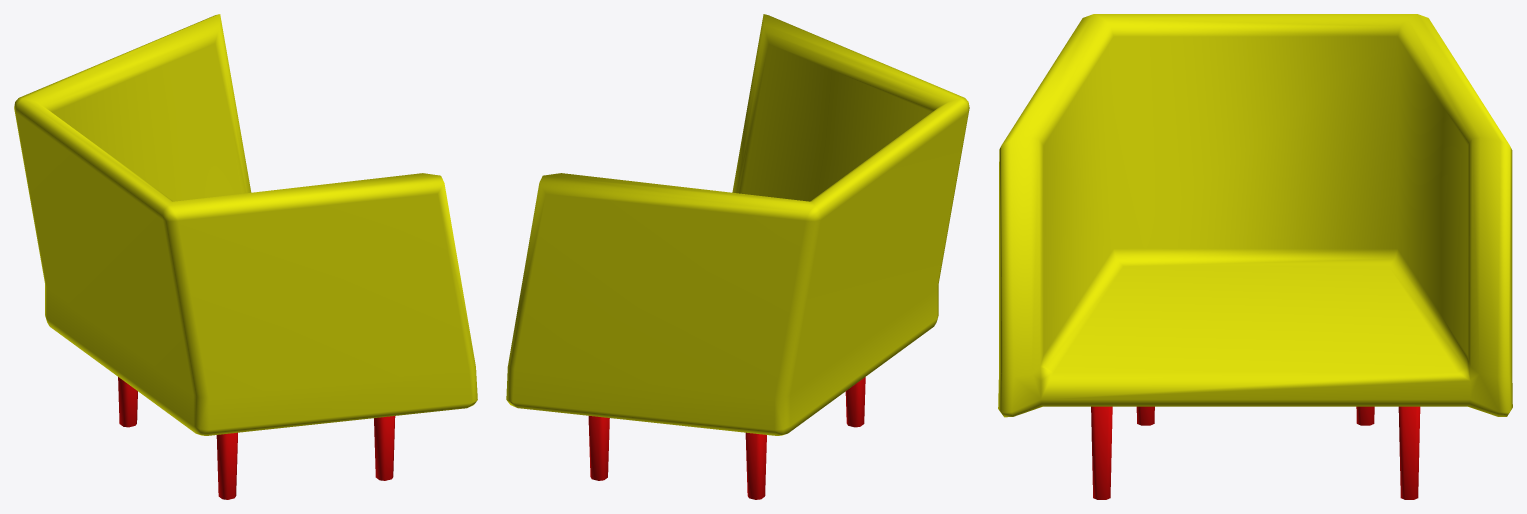
File: LoungeChair_SM.fbx
3 views of the same model, side by side, from view 1: azimuth 30°, elevation 25°; view 2: azimuth 150°, elevation 25°; view 3: azimuth 270°, elevation 25° (orthographic). The views are drawn at different scales.
Visible parts, largest first — view 1: pCube6; view 2: pCube6; view 3: pCube6.
Part boxes in pixels (x1,y1,x2,y2): pCube6: (14, 14, 477, 499); pCube6: (506, 14, 969, 499); pCube6: (998, 14, 1512, 499).
Size of the model in its own units: 7.99 by 9.13 by 11.71.
